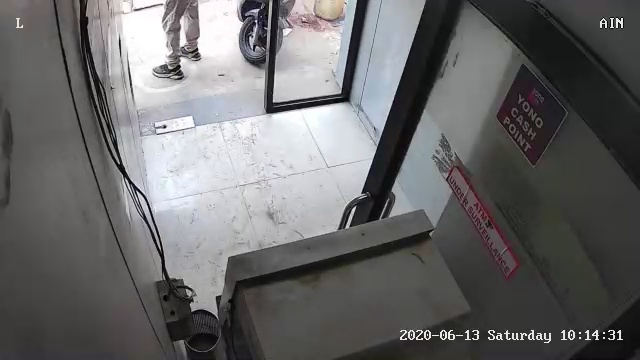open: (112, 5, 381, 142)
